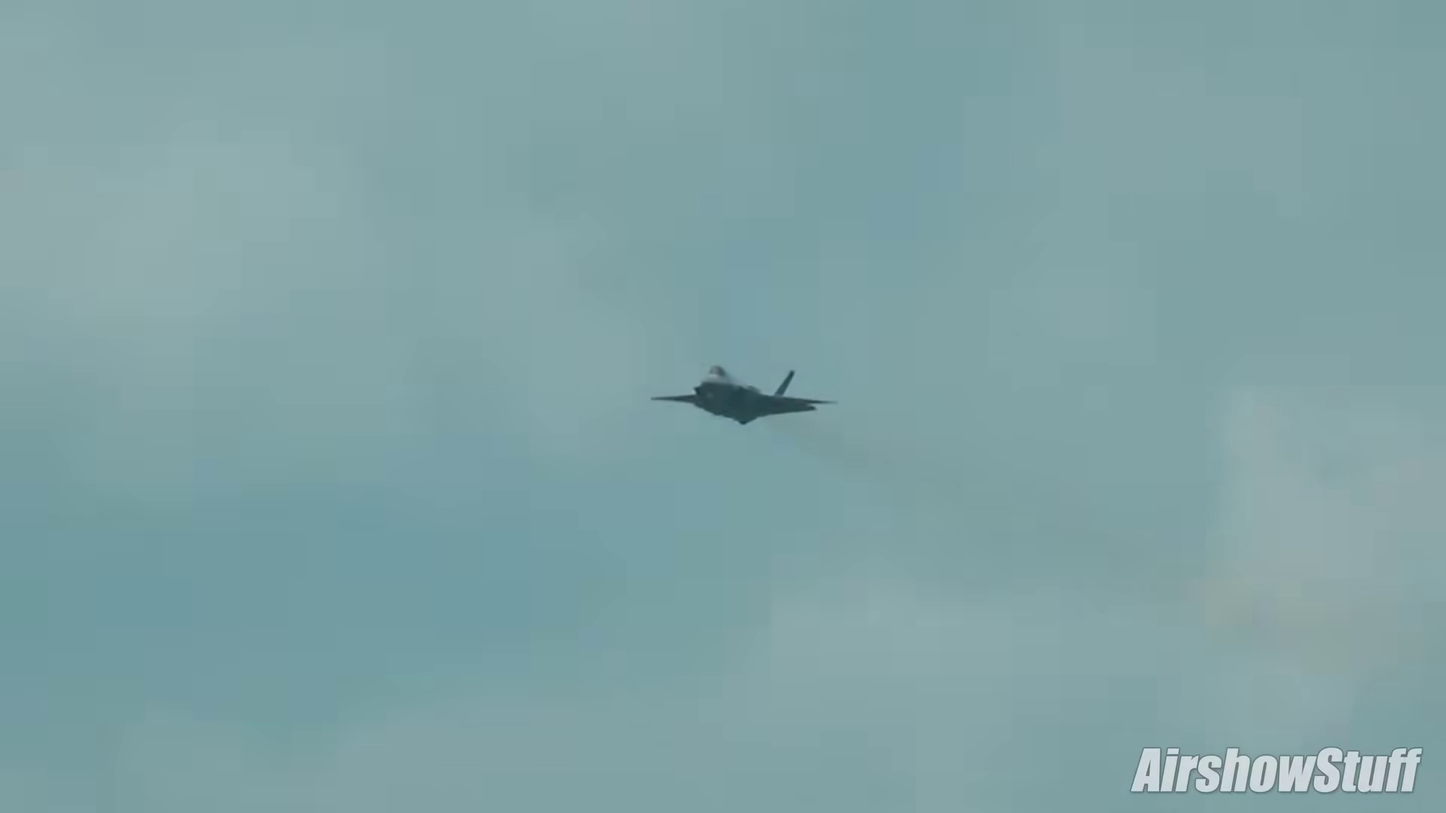F35: (645, 362, 845, 427)
